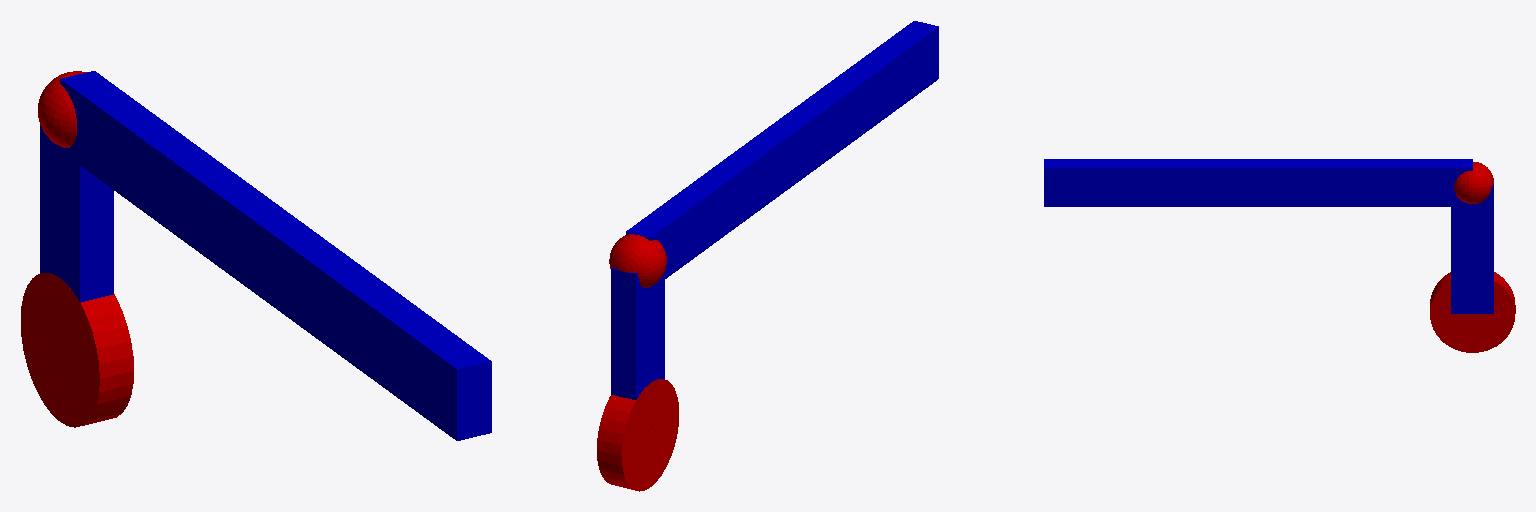
URDF robot description (TwoLinkStruct5583091015):
<?xml version="1.0"?>
<robot  name="TwoLinkStruct5583091015" >
 <material  name="blue" >
  <color  rgba="0 0 0.8 1.0" />
 </material>
 <material  name="red" >
  <color  rgba="0.8 0 0 1.0" />
 </material>
 <link  name="base_link" >
  <visual >
   <origin  rpy="0 1.5707 0"  xyz="0 0 0" />
   <material  name="red" />
   <geometry >
    <cylinder  length="0.05"  radius="0.1" />
   </geometry>
  </visual>
 </link>
 <joint  type="revolute"  name="joint1" >
  <parent  link="base_link" />
  <child  link="link1" />
  <origin  xyz="0 0 0"  rpy="0 0 0" />
  <axis  xyz="1 0 0" />
 </joint>
 <link  name="link1" >
  <inertial >
   <origin  rpy="0 0 0"  xyz="0 0 0.1633995697696314" />
   <mass  value="0.6393886113304718" />
   <inertia  ixy="0.0"  iyy="0.00026641192138769664"  izz="0.005823640858717754"  ixz="0.0"  ixx="0.005823640858717754"  iyz="0.0" />
  </inertial>
  <visual >
   <origin  rpy="0 0 0"  xyz="0 0 0.1633995697696314" />
   <material  name="blue" />
   <geometry >
    <box  size="0.05 0.1 0.3267991395392628" />
   </geometry>
  </visual>
 </link>
 <joint  type="fixed"  name="joint-joint-1" >
  <parent  link="link1" />
  <child  link="joint-link-1" />
  <origin  xyz="0 0 0.3267991395392628"  rpy="1.5707 0 0" />
  <axis  xyz="1 0 0" />
 </joint>
 <link  name="joint-link-1" >
  <inertial >
   <origin  rpy="0 0 0"  xyz="0 0 0" />
   <mass  value="2.7833343131998385" />
   <inertia  ixy="0"  iyy="0"  izz="0"  ixz="0"  ixx="0"  iyz="0" />
  </inertial>
  <visual >
   <origin  rpy="0 0 0"  xyz="0 0 0" />
   <material  name="red" />
   <geometry >
    <sphere  radius="0.05" />
   </geometry>
  </visual>
 </link>
 <joint  type="revolute"  name="joint2" >
  <parent  link="link1" />
  <child  link="link2" />
  <origin  xyz="0 0 0.3267991395392628"  rpy="1.5707 0 0" />
  <axis  xyz="1 0 0" />
 </joint>
 <link  name="link2" >
  <inertial >
   <origin  rpy="0 0 0"  xyz="0 0 0.5" />
   <mass  value="3.907196044921875" />
   <inertia  ixy="0.0"  iyy="0.00026641192138769664"  izz="0.05341559023823316"  ixz="0.0"  ixx="0.05341559023823316"  iyz="0.0" />
  </inertial>
  <visual >
   <origin  rpy="0 0 0"  xyz="0 0 0.5" />
   <material  name="blue" />
   <geometry >
    <box  size="0.05 0.1 1.0" />
   </geometry>
  </visual>
 </link>
 <joint  type="fixed"  name="eef_joint" >
  <parent  link="link2" />
  <child  link="eef" />
  <origin  xyz="0 0 1.0"  rpy="0 0 0" />
 </joint>
 <link  name="eef" >
  <inertial >
   <origin  rpy="0 0 0"  xyz="0 0 0" />
   <mass  value="1" />
   <inertia  ixy="0"  iyy="0"  izz="0"  ixz="0"  ixx="0"  iyz="0" />
  </inertial>
 </link>
 <transmission  name="motor1" >
  <type  xmltext="SimpleTransmission" >
   SimpleTransmission
  </type>
  <actuator  name="motor1" >
   <mechanicalreduction  xmltext="1" >
    1
   </mechanicalreduction>
  </actuator>
  <joint  name="joint1" />
 </transmission>
 <transmission  name="motor2" >
  <type  xmltext="SimpleTransmission" >
   SimpleTransmission
  </type>
  <actuator  name="motor2" >
   <mechanicalreduction  xmltext="1" >
    1
   </mechanicalreduction>
  </actuator>
  <joint  name="joint2" />
 </transmission>
</robot>

<!-- {'carti': array([-0.1 ,  0.14,  0.85]), 'cartd': array([-0.1 ,  0.32,  1.29]), 'tau_mu': 0.5871209315293482, 'b0': 0.0, 'Km': 3.6661370965350124, 'k_velocity': 31.807464009909268, 'tau_max_m': 2.935524193166898, 'omega_max_m': 2487.334302770174, 'gear_ratio': 9.411418815051254, 'Kp': 0.0, 'Kd': 99.08462547840895, 'm_m': 2.7833343131998385, 'l1': 0.3267991395392628, 'l2': 1.0, 'k1': 23781.40929400029, 'k2': 144732527.78981525, 'k3': 168668642.674092}-->

--- What the picture shows (computed from the rendered views, not written in the file) ---
3 views of the same robot in one strip: view 1: azimuth 30°, elevation 25°; view 2: azimuth 150°, elevation 25°; view 3: azimuth 270°, elevation 25° (orthographic).
Robot: TwoLinkStruct5583091015 — 5 links, 4 joints (2 revolute, 2 fixed); root link base_link; default pose: all joints at 0.
Visible links, largest first — view 1: link2, base_link, link1, joint-link-1; view 2: link2, base_link, link1, joint-link-1; view 3: link2, link1, base_link, joint-link-1.
Boxes of the visible links, left/top/right/bottom form: link2: left=60, top=71, right=491, bottom=440; base_link: left=21, top=273, right=133, bottom=427; link1: left=40, top=125, right=113, bottom=302; joint-link-1: left=38, top=71, right=86, bottom=147; link2: left=626, top=21, right=938, bottom=285; base_link: left=597, top=379, right=678, bottom=491; link1: left=611, top=267, right=664, bottom=431; joint-link-1: left=609, top=234, right=666, bottom=287; link2: left=1044, top=159, right=1472, bottom=206; link1: left=1451, top=185, right=1493, bottom=313; base_link: left=1430, top=272, right=1515, bottom=352; joint-link-1: left=1454, top=162, right=1493, bottom=203.
Size in the robot's own frame: 0.1 by 1.1 by 0.4769 metres.
Geometry: primitives only (box / cylinder / sphere), no mesh files.
